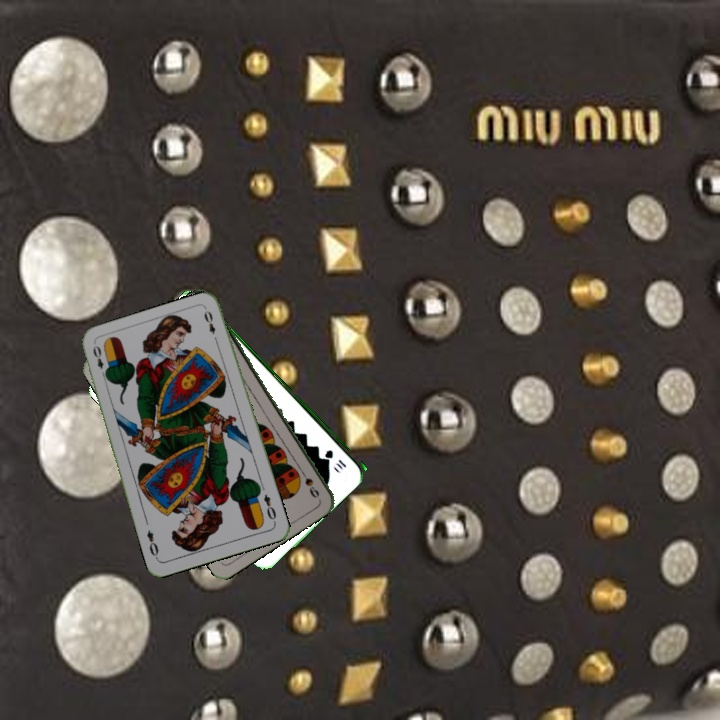EO: (89, 342, 110, 381), (260, 490, 279, 523)
G10: (322, 445, 349, 472)
S9: (295, 464, 322, 500)
